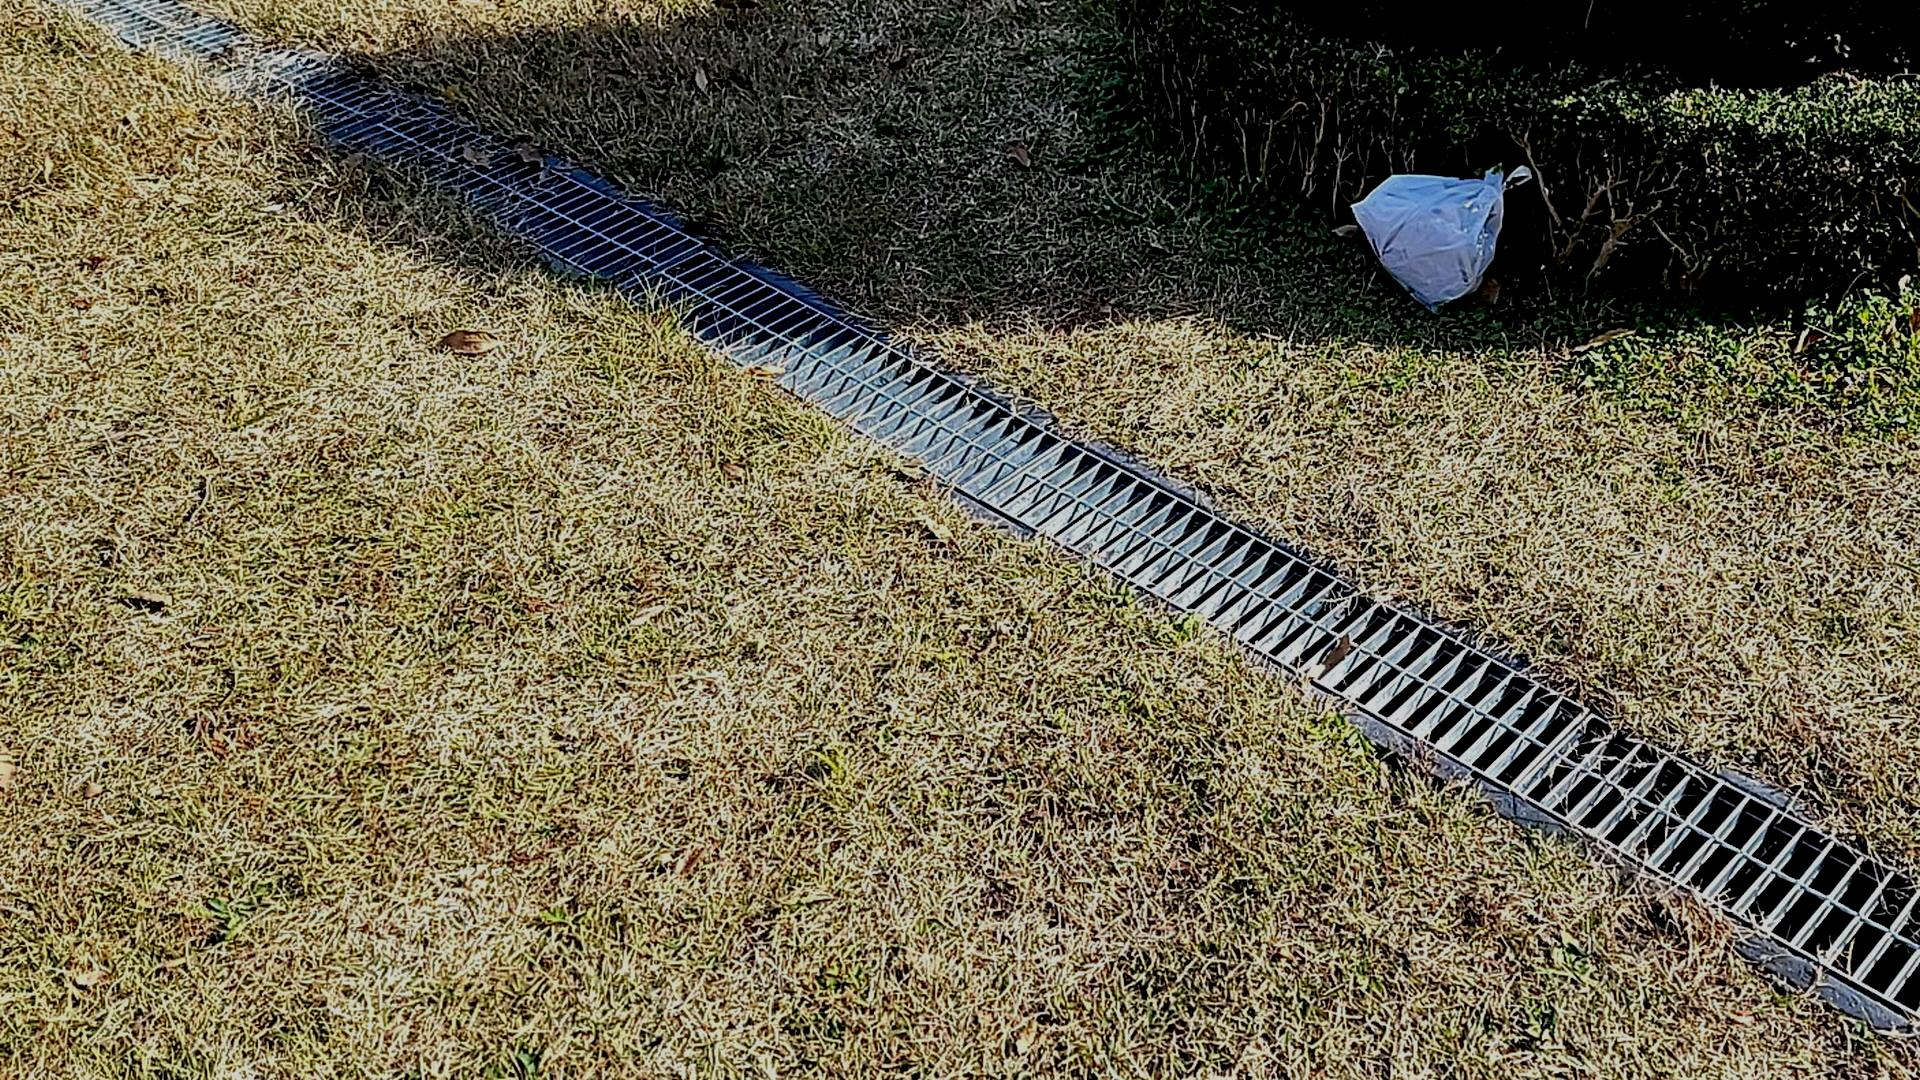white_bag: (1342, 136, 1544, 322)
